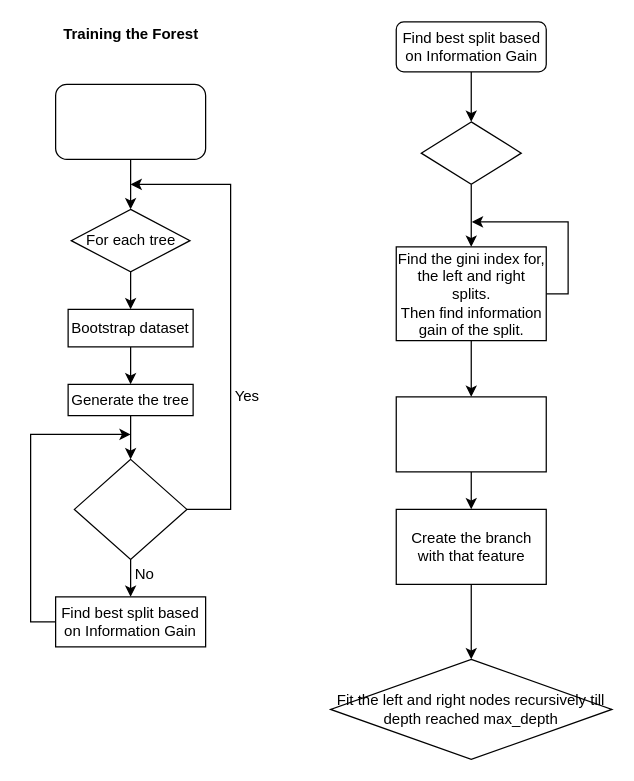
This 634x781 diagram has some shape labels left out. The shapes that lost their labels are listed below. From the top down, each one's box as (x1, y1, x2, y2) in pixels, then its label:
(54, 83, 206, 159): Initialize Random Forest
(420, 121, 521, 184): For each feature
(395, 396, 546, 472): Find the feature with maximum Information Gain
(73, 458, 187, 559): Reached max_depth
